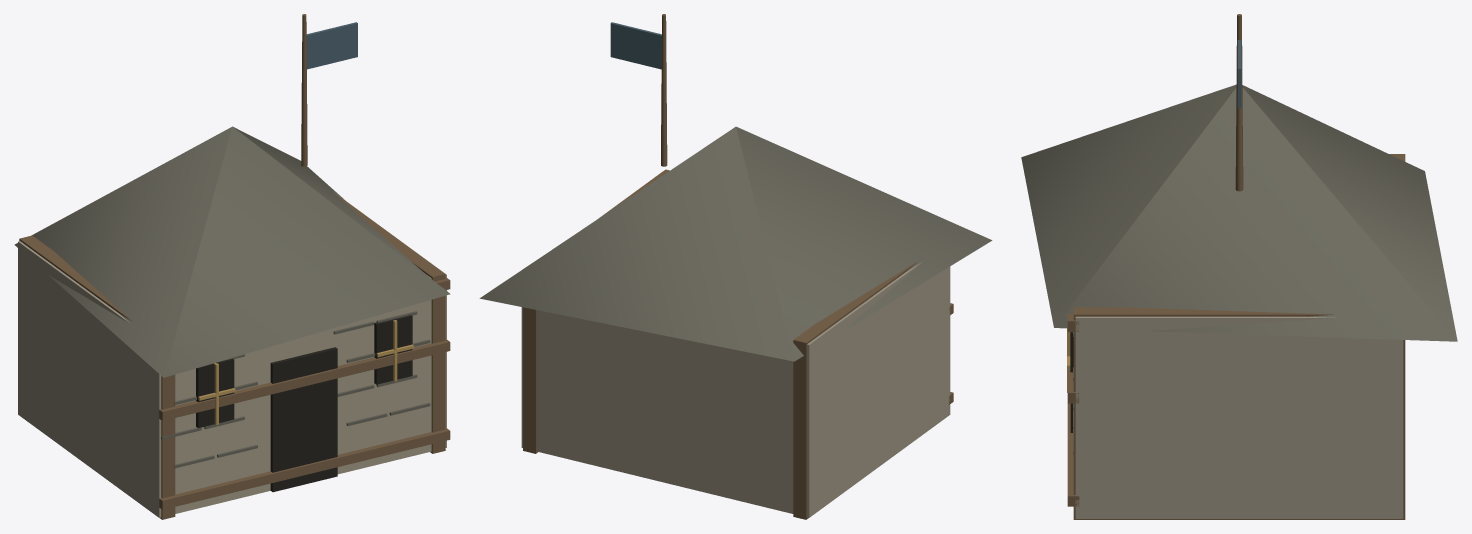
The model's file is b-house.glb.
3 renders of one model, left to right at view 1: azimuth 30°, elevation 25°; view 2: azimuth 150°, elevation 25°; view 3: azimuth 270°, elevation 25°, orthographic. The views are drawn at different scales.
Parts seen in each view (by area): view 1: Structure; view 2: Structure; view 3: Structure.
Boxes of the visible parts, left/top/right/bottom form: Structure: left=14, top=14, right=450, bottom=519; Structure: left=479, top=14, right=992, bottom=519; Structure: left=1021, top=14, right=1457, bottom=519.
Size of the model in its own units: 4.53 by 5.33 by 4.53.
